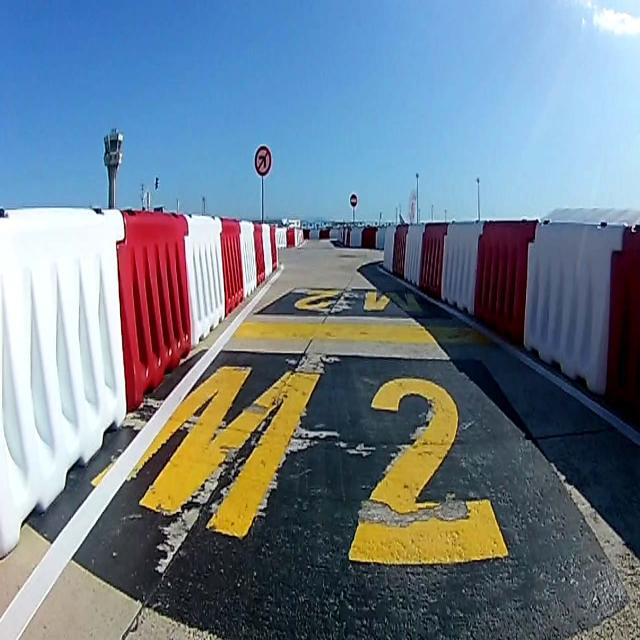girisyok: (349, 194, 357, 207)
soladonulmez: (254, 145, 272, 176)
